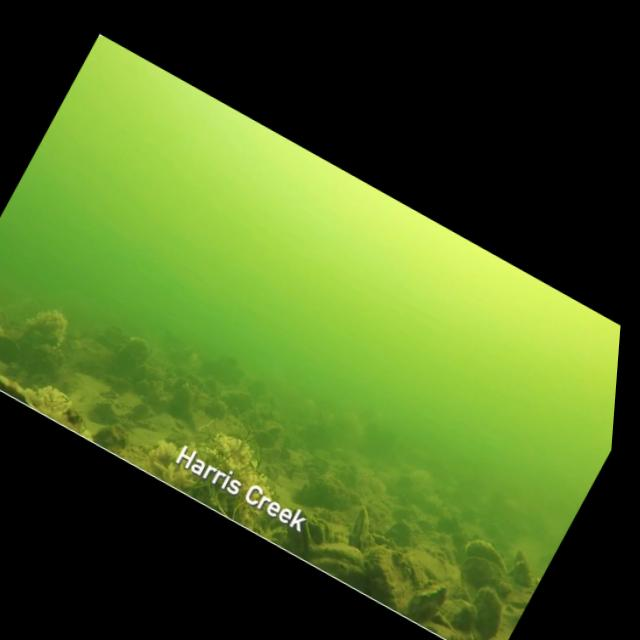Oyster-Closed: (349, 545, 420, 616), (31, 381, 84, 424), (64, 329, 116, 369), (343, 504, 382, 550), (367, 527, 404, 557)
Oyster-Indeterminate: (288, 520, 382, 596), (453, 580, 516, 640), (294, 464, 357, 519), (452, 544, 514, 599), (456, 529, 519, 580), (270, 496, 324, 552), (104, 328, 156, 384), (400, 541, 459, 590), (161, 379, 209, 431), (435, 590, 487, 638), (0, 364, 47, 413), (90, 415, 137, 460), (88, 361, 138, 402), (212, 382, 262, 422), (24, 336, 72, 377), (505, 551, 547, 592), (293, 445, 338, 482), (141, 373, 175, 411), (456, 619, 509, 640), (388, 547, 420, 581), (130, 373, 161, 406), (177, 365, 210, 395), (128, 397, 158, 429), (257, 436, 287, 466), (89, 395, 118, 422), (252, 425, 280, 452), (131, 361, 157, 389), (203, 398, 231, 422), (175, 375, 203, 396), (202, 376, 226, 400), (0, 302, 17, 332), (267, 420, 289, 440), (163, 375, 184, 394)
Oyster-Open: (404, 573, 456, 625), (301, 511, 340, 548), (382, 515, 418, 551), (0, 327, 26, 366), (258, 457, 289, 486)
